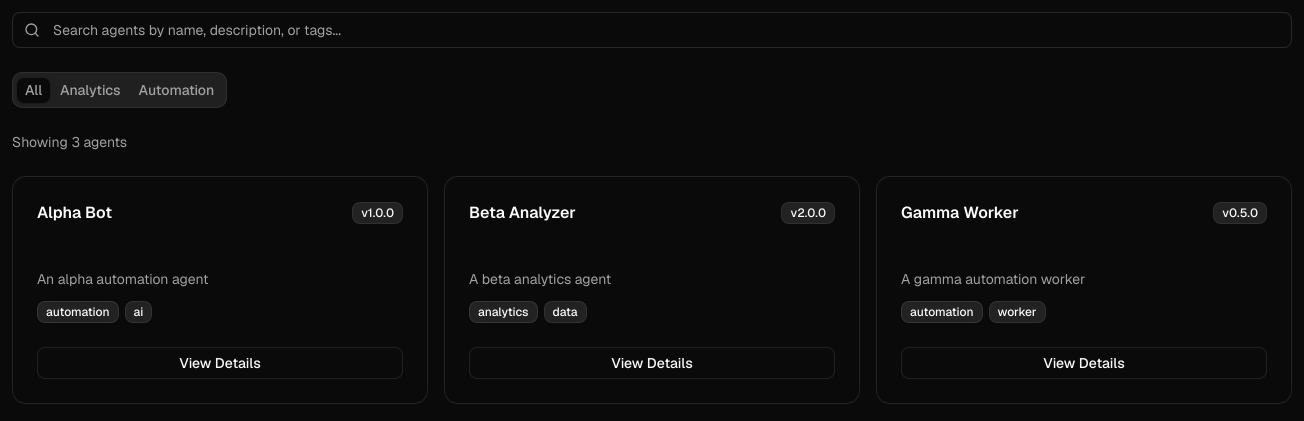
Scenario: RegistryContent › shows empty state when search yields no results
Type "nonexistent agent xyz" into the field with placeholder "Search agents by name, description, or tags..." at (652, 30), box [12,12,1292,48]
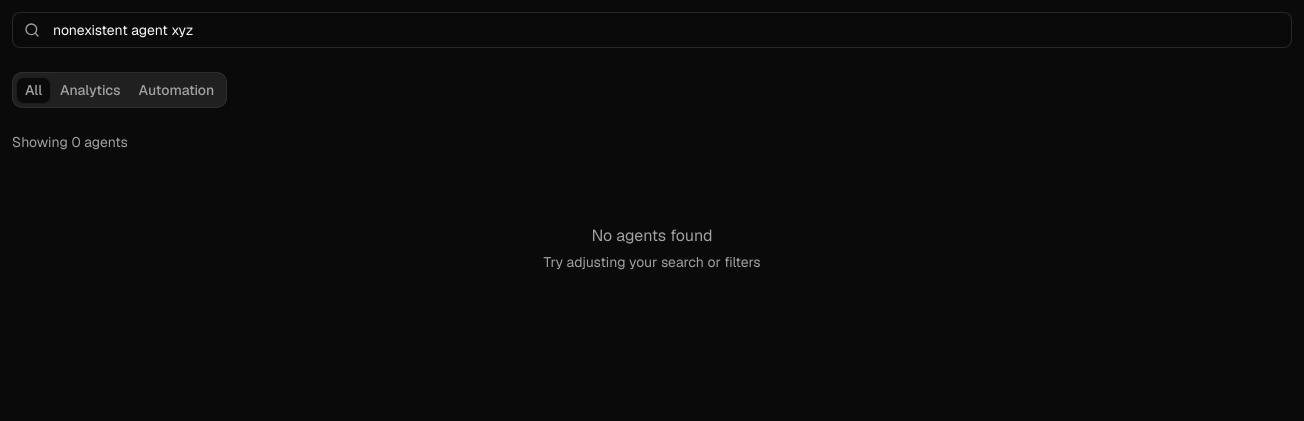
Now the text "No agents found" is shown, box [591,224,713,248]
Now the text "Try adjusting your search or filters" is shown, box [544,252,760,272]
